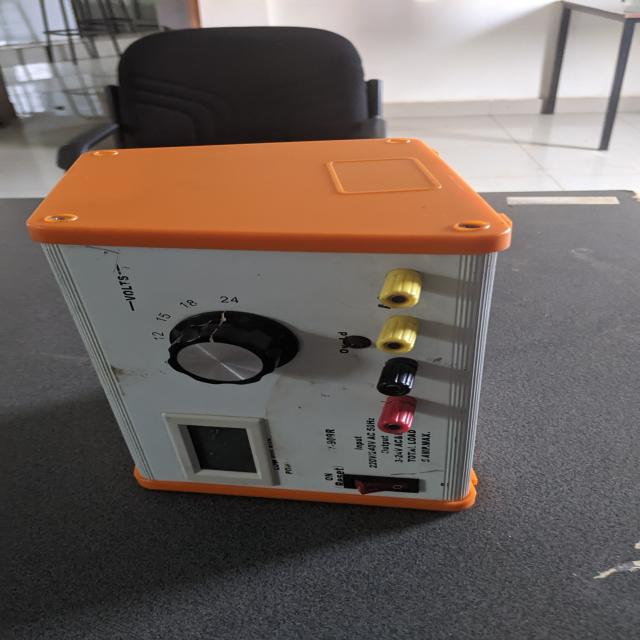AC and DC Power Supply 24V: (26, 128, 536, 515)
